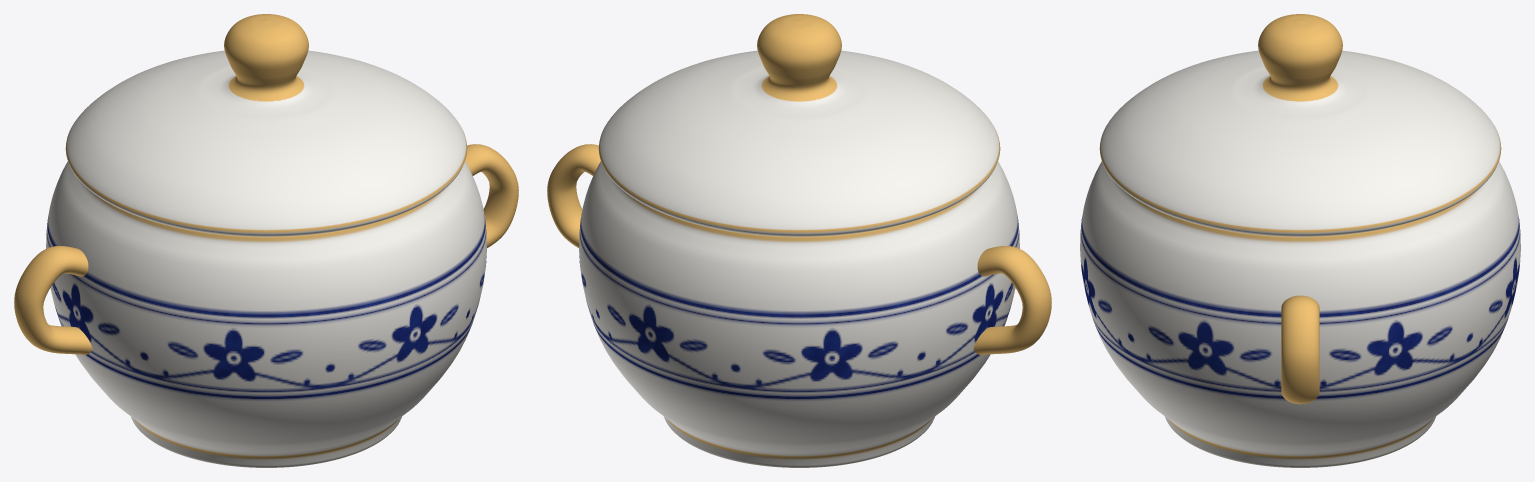
File: sugar-bowl.glb
3 views of the same model, side by side, from view 1: azimuth 30°, elevation 25°; view 2: azimuth 150°, elevation 25°; view 3: azimuth 270°, elevation 25° (orthographic).
Parts seen in each view (by area): view 1: sugar-body, sugar-lid, sugar-handles; view 2: sugar-body, sugar-lid, sugar-handles; view 3: sugar-body, sugar-lid, sugar-handles.
Boxes of the visible parts, left/top/right/bottom form: sugar-body: left=46, top=161, right=486, bottom=467; sugar-lid: left=65, top=14, right=467, bottom=236; sugar-handles: left=14, top=144, right=518, bottom=355; sugar-body: left=579, top=161, right=1019, bottom=467; sugar-lid: left=598, top=14, right=1000, bottom=236; sugar-handles: left=547, top=144, right=1051, bottom=355; sugar-body: left=1080, top=161, right=1520, bottom=467; sugar-lid: left=1099, top=14, right=1501, bottom=236; sugar-handles: left=1281, top=295, right=1319, bottom=404.
Bounding box in the file's own units: 0.1437 × 0.1079 × 0.1103.
Materials: 3 (2 with a texture image).
